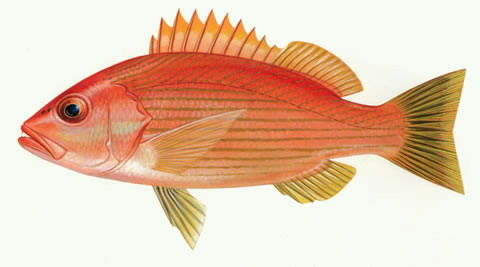fish: (18, 8, 466, 250)
